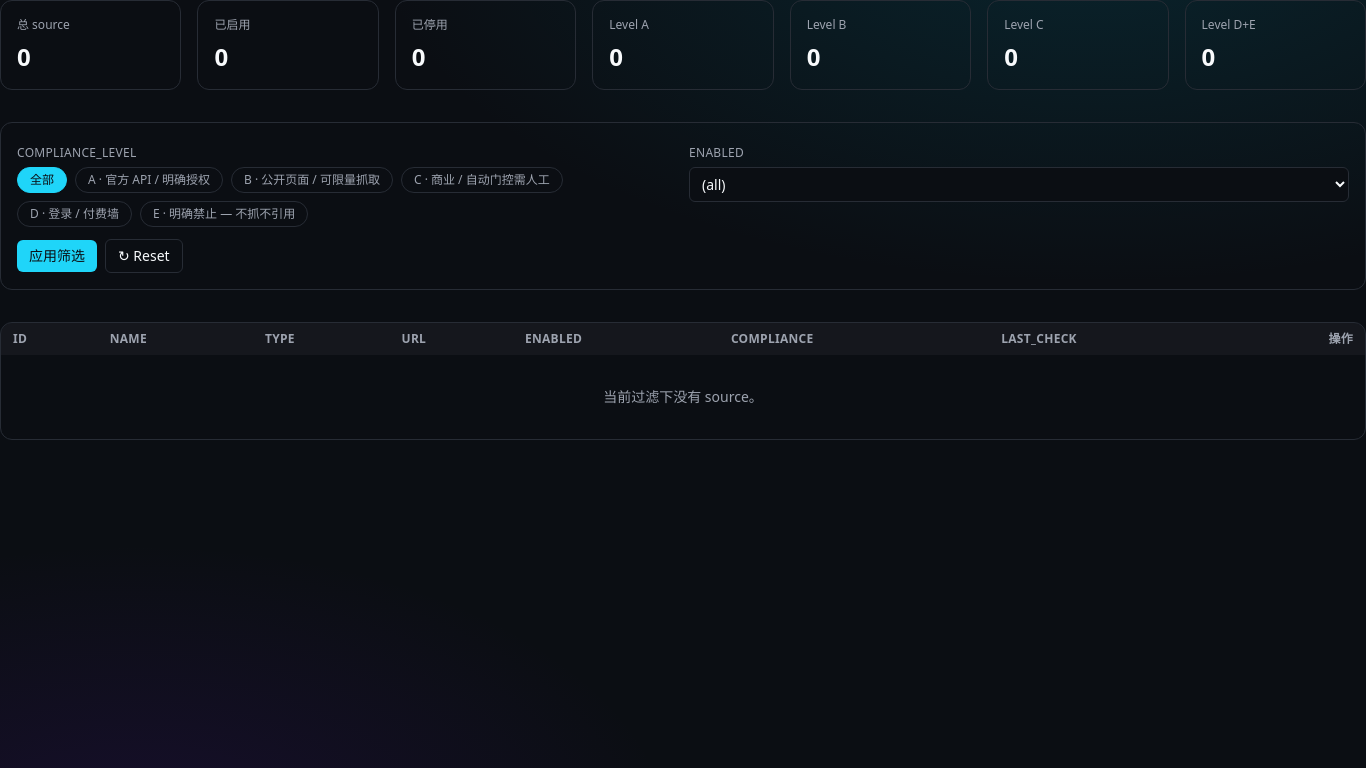
Test: SourcesPanel › shows an error banner when fetch fails
Click the button with test id "btn-reset" at (144, 256), box [105,239,183,273]
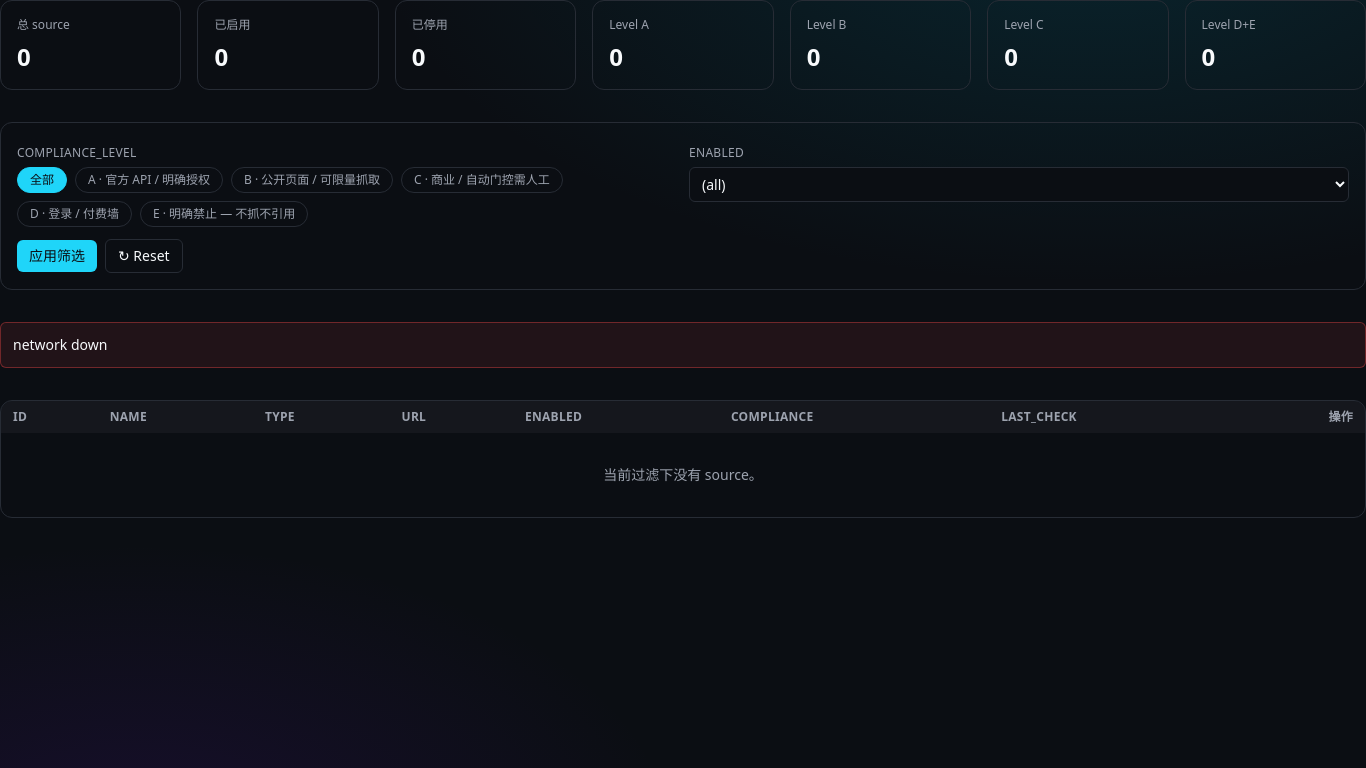
Check: the text with test id "sources-error" reads "network down", box [13,335,107,354]
